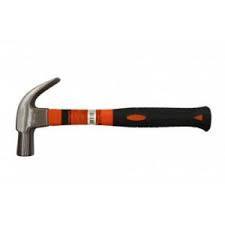martillu: (11, 76, 214, 156)
